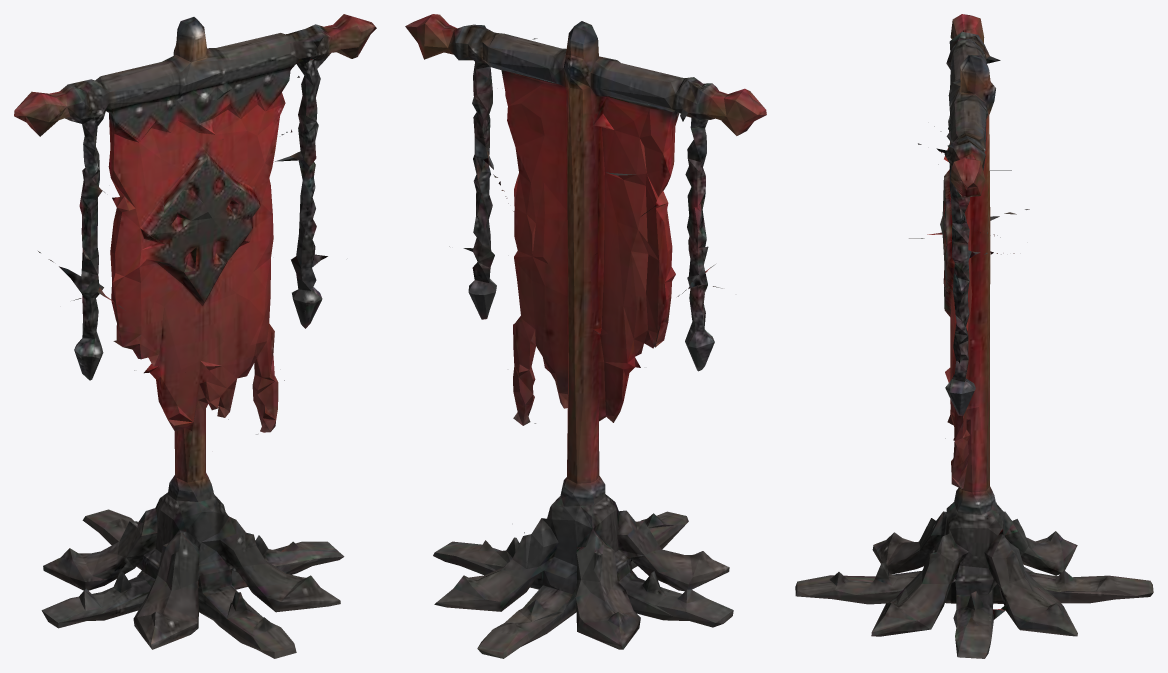
The model's file is banner_stand_hanging_chains_lod0.glb.
3 views of the same model, side by side, from view 1: azimuth 30°, elevation 25°; view 2: azimuth 150°, elevation 25°; view 3: azimuth 270°, elevation 25° (orthographic). The views are drawn at different scales.
Visible parts, largest first — view 1: banner_stand_hanging_chains_lod0; view 2: banner_stand_hanging_chains_lod0; view 3: banner_stand_hanging_chains_lod0.
Part boxes in pixels (x1,y1,x2,y2): banner_stand_hanging_chains_lod0: (14, 14, 376, 658); banner_stand_hanging_chains_lod0: (405, 14, 766, 658); banner_stand_hanging_chains_lod0: (795, 14, 1153, 658).
Size of the model in its own units: 2.33 by 3.55 by 2.11.
Materials: 1 (1 with a texture image).
